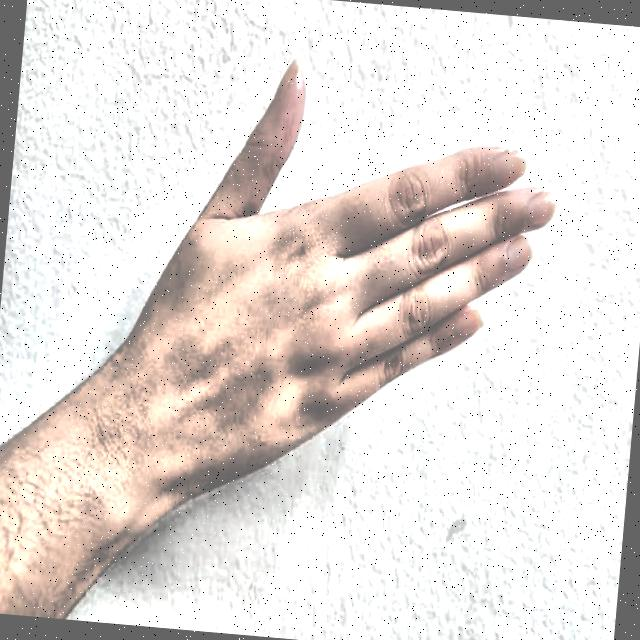Aa: (97, 0, 586, 547)
